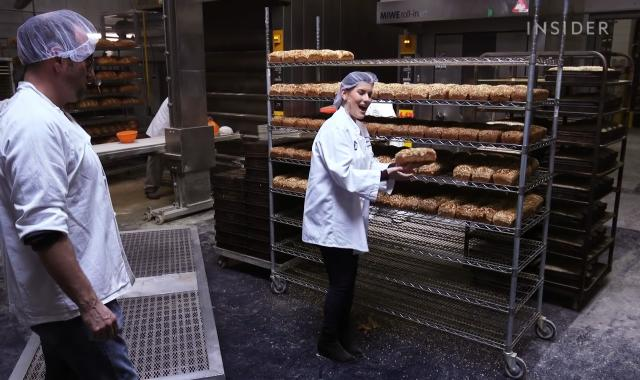hairnet: (14, 6, 100, 72), (333, 72, 376, 119)
